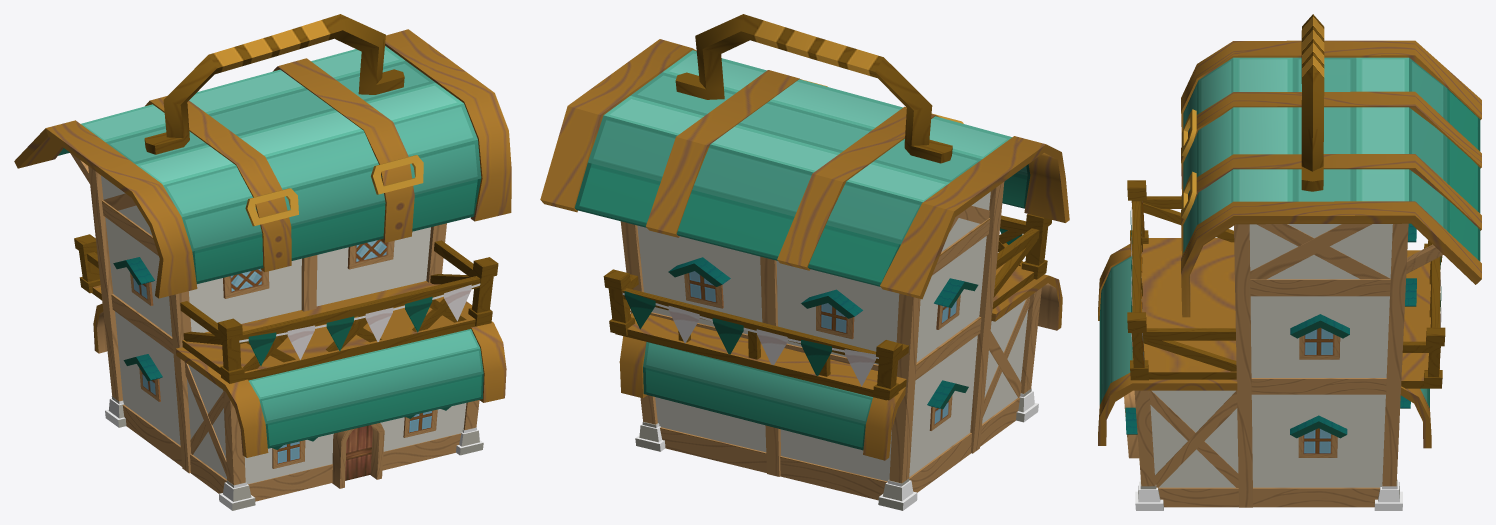
Rendered from building_variety_lv5.FBX.
3 renders of one model, left to right at view 1: azimuth 30°, elevation 25°; view 2: azimuth 150°, elevation 25°; view 3: azimuth 270°, elevation 25°, orthographic. The views are drawn at different scales.
Parts seen in each view (by area): view 1: building_variety_lv5, building_variety_main_lv5; view 2: building_variety_lv5, building_variety_main_lv5; view 3: building_variety_lv5, building_variety_main_lv5.
Boxes of the visible parts, bbox=[...] form: building_variety_lv5: bbox=[14, 14, 511, 510]; building_variety_main_lv5: bbox=[58, 46, 481, 484]; building_variety_lv5: bbox=[540, 14, 1069, 510]; building_variety_main_lv5: bbox=[574, 50, 1030, 481]; building_variety_lv5: bbox=[1098, 14, 1481, 510]; building_variety_main_lv5: bbox=[1150, 57, 1480, 487].
Bounding box in the file's own units: 596 × 611 × 519.
